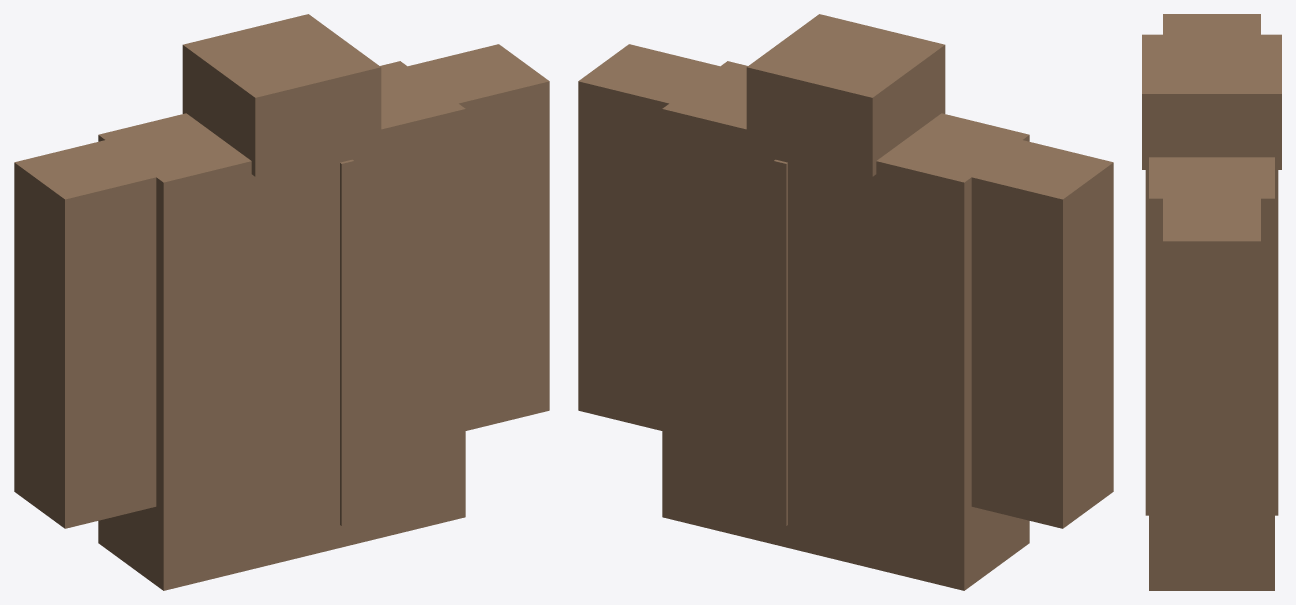
Rendered from c_jacket_leather.glb.
The picture shows the model from 3 angles, left to right: view 1: azimuth 30°, elevation 25°; view 2: azimuth 150°, elevation 25°; view 3: azimuth 270°, elevation 25°; orthographic projection. The views are drawn at different scales.
Parts seen in each view (by area): view 1: c_jacket_leather; view 2: c_jacket_leather; view 3: c_jacket_leather.
Boxes of the visible parts, x1,y1,x2,y2 form: c_jacket_leather: (14,14,549,590); c_jacket_leather: (578,14,1113,590); c_jacket_leather: (1142,14,1281,590).
Size of the model in its own units: 0.77 by 0.72 by 0.2.
